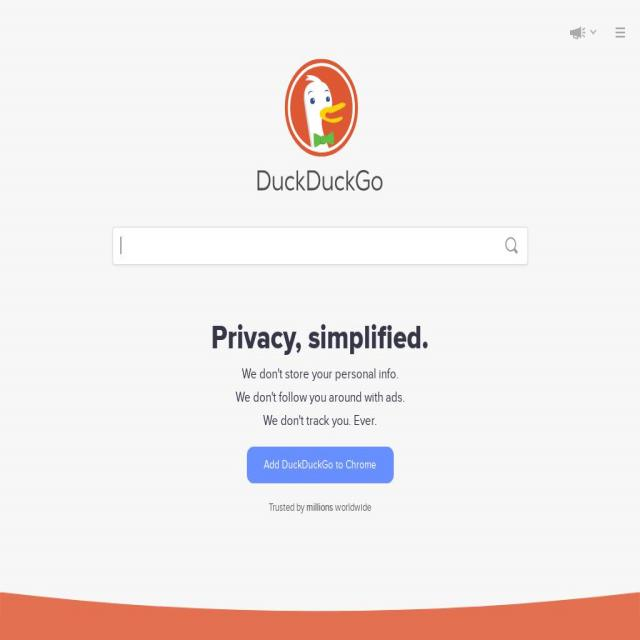options: (566, 5, 638, 52)
search: (100, 212, 551, 286)
